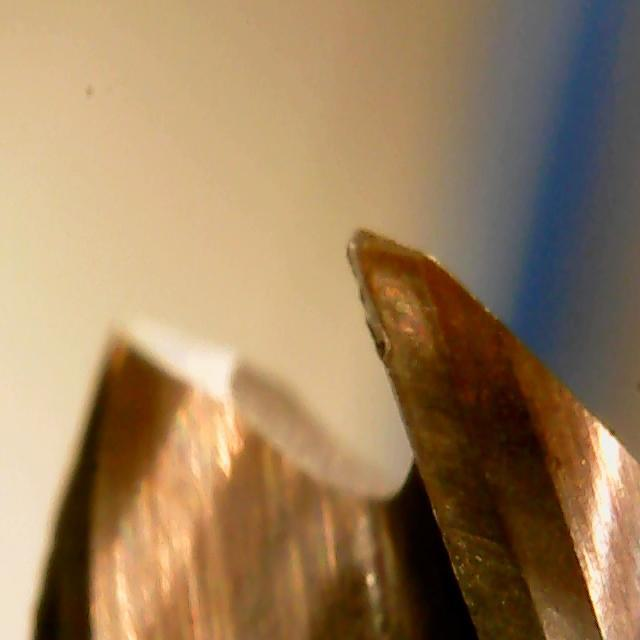Tool-wear-class-1: (315, 220, 499, 465)
